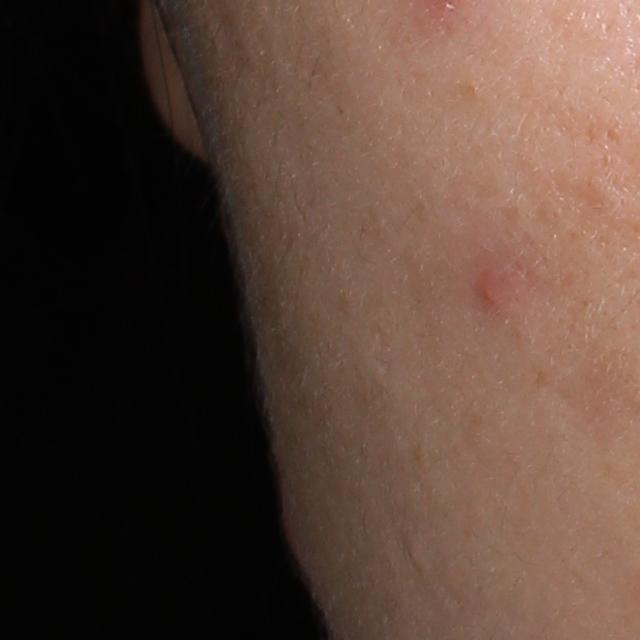papule: (473, 270, 514, 326)
